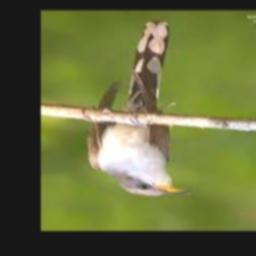Cuckoo: (89, 22, 194, 196)
